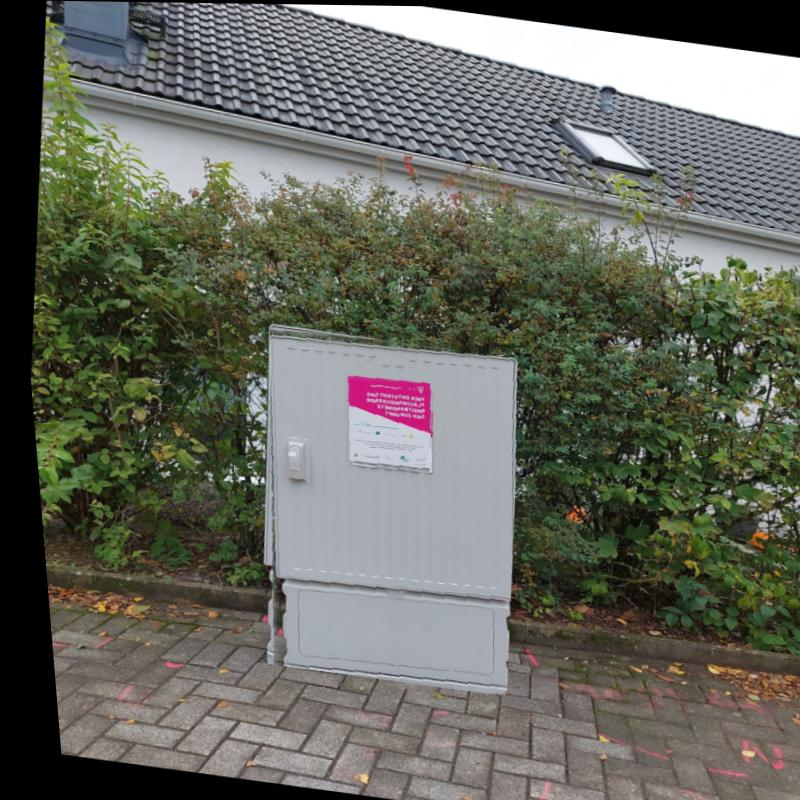NT-Gehause: (222, 317, 536, 695)
Steaker: (328, 367, 432, 472)
